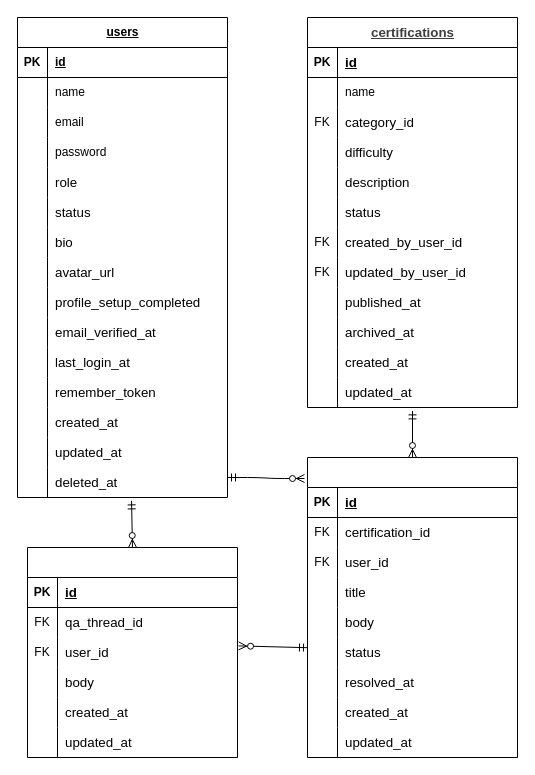
The diagram is 535 pixels wide and 775 high, and some of its shapes have lost their labels. The shapes that lost their labels are listed below. From the top down, each one's box as (x1, y1, x2, y2) in pixels, then its label:
(306, 456, 518, 758): qa_threads
(26, 546, 238, 758): qa_replies
